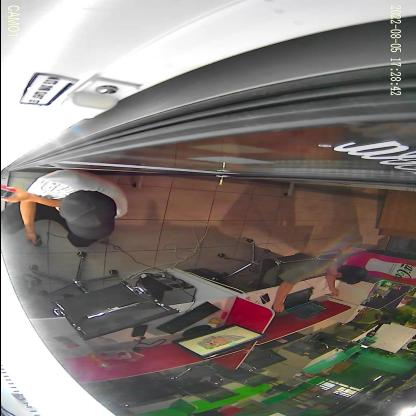red: (0, 184, 20, 198)
